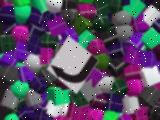Right: (47, 36, 99, 94)
